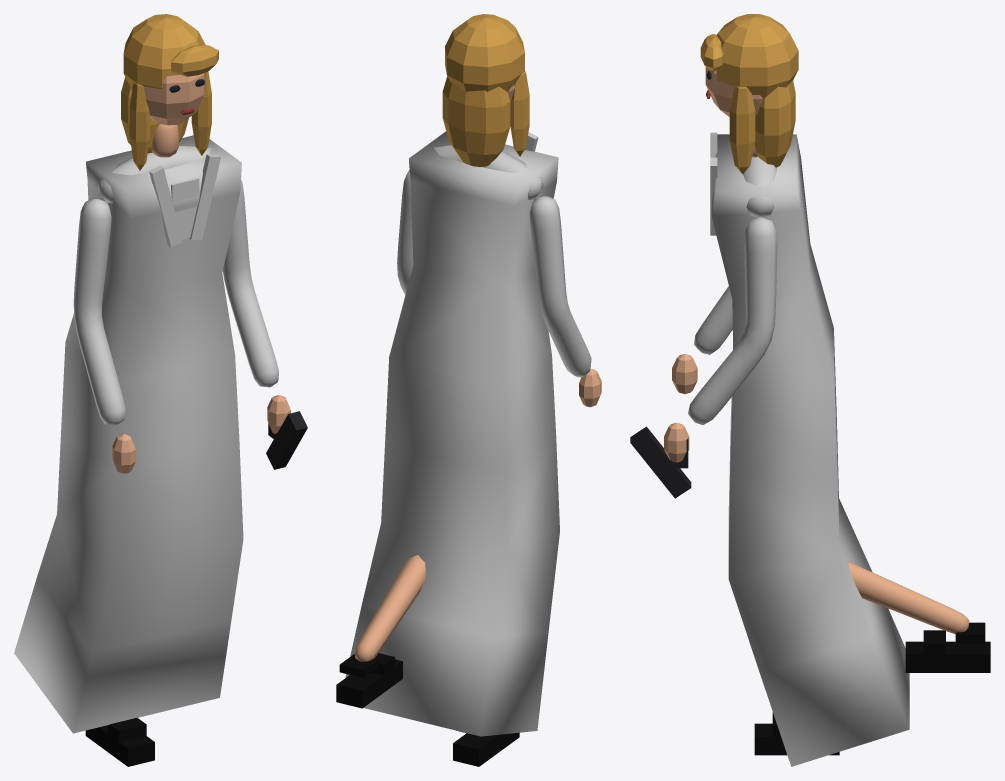
Rendered from aya_walk_4.obj.
3 views of the same model, side by side, from view 1: azimuth 30°, elevation 25°; view 2: azimuth 150°, elevation 25°; view 3: azimuth 270°, elevation 25° (orthographic). The views are drawn at different scales.
Visible parts, largest first — view 1: coat.005, coat_sleeves.005, hair_cap.005, head.005, soleL.005, lock.010, pistol.005, lapelR.005, lapelL.005, bangs.005, lock.011, gown_v.005 (+5 smaller); view 2: coat.005, coat_sleeves.005, hair_cap.005, hair_back.005, legs_neck.005, soleR.005, soleL.005, lock.010, handL.005, ankle_strapR.005; view 3: coat.005, coat_sleeves.005, hair_cap.005, legs_neck.005, hair_back.005, soleR.005, lock.011, pistol.005, head.005, soleL.005, handL.005, handR.005 (+1 smaller).
Boxes of the visible parts, left/top/right/bottom form: coat.005: left=14, top=135, right=243, bottom=733; coat_sleeves.005: left=73, top=145, right=278, bottom=425; hair_cap.005: left=123, top=14, right=205, bottom=89; head.005: left=131, top=73, right=205, bottom=125; soleL.005: left=85, top=725, right=154, bottom=766; lock.010: left=129, top=82, right=149, bottom=170; pistol.005: left=266, top=411, right=307, bottom=469; lapelR.005: left=189, top=154, right=220, bottom=239; lapelL.005: left=149, top=165, right=182, bottom=247; bangs.005: left=171, top=44, right=218, bottom=76; lock.011: left=191, top=71, right=211, bottom=155; gown_v.005: left=171, top=178, right=199, bottom=239; coat.005: left=345, top=131, right=559, bottom=736; coat_sleeves.005: left=397, top=145, right=591, bottom=377; hair_cap.005: left=445, top=14, right=524, bottom=92; hair_back.005: left=442, top=76, right=510, bottom=167; legs_neck.005: left=355, top=555, right=425, bottom=661; soleR.005: left=336, top=659, right=402, bottom=708; soleL.005: left=453, top=732, right=519, bottom=766; lock.010: left=510, top=71, right=529, bottom=156; handL.005: left=579, top=368, right=601, bottom=407; ankle_strapR.005: left=339, top=654, right=378, bottom=678; coat.005: left=711, top=134, right=909, bottom=766; coat_sleeves.005: left=688, top=156, right=777, bottom=424; hair_cap.005: left=716, top=14, right=798, bottom=99; legs_neck.005: left=752, top=146, right=969, bottom=634; hair_back.005: left=754, top=80, right=795, bottom=167; soleR.005: left=905, top=641, right=990, bottom=672; lock.011: left=729, top=86, right=755, bottom=174; pistol.005: left=630, top=426, right=691, bottom=498; head.005: left=705, top=67, right=762, bottom=116; soleL.005: left=754, top=723, right=839, bottom=755; handL.005: left=672, top=354, right=697, bottom=394; handR.005: left=664, top=422, right=689, bottom=462.
Size of the model in its own units: 0.4523 by 1.83 by 0.8047.
